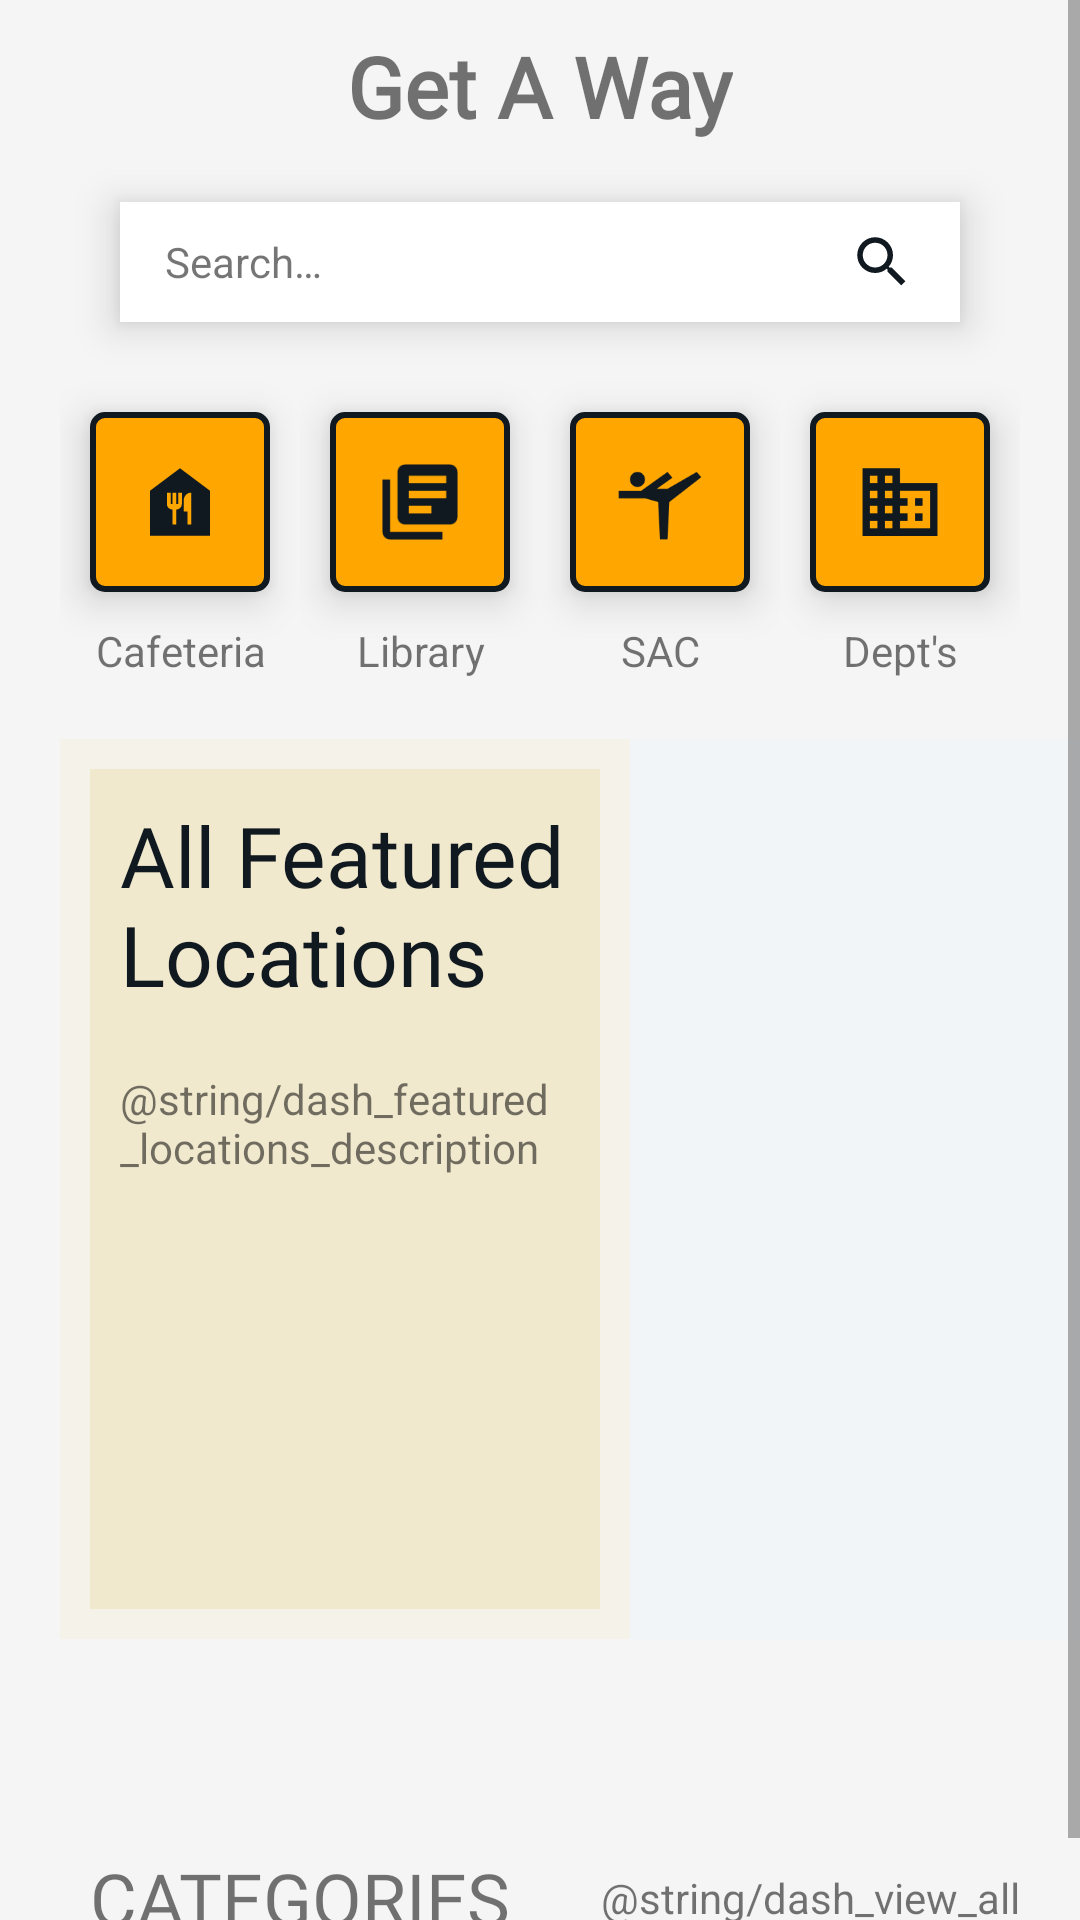

Locate icon controls on the screen. Image size 1080 × 1920, boxes as box(x1, y1, x2, y2).
dash department: box(862, 468, 938, 536)
dash search: box(857, 237, 906, 286)
